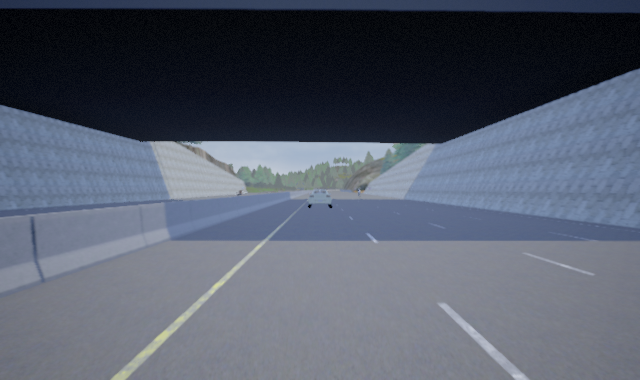vehicle: (307, 189, 333, 209)
